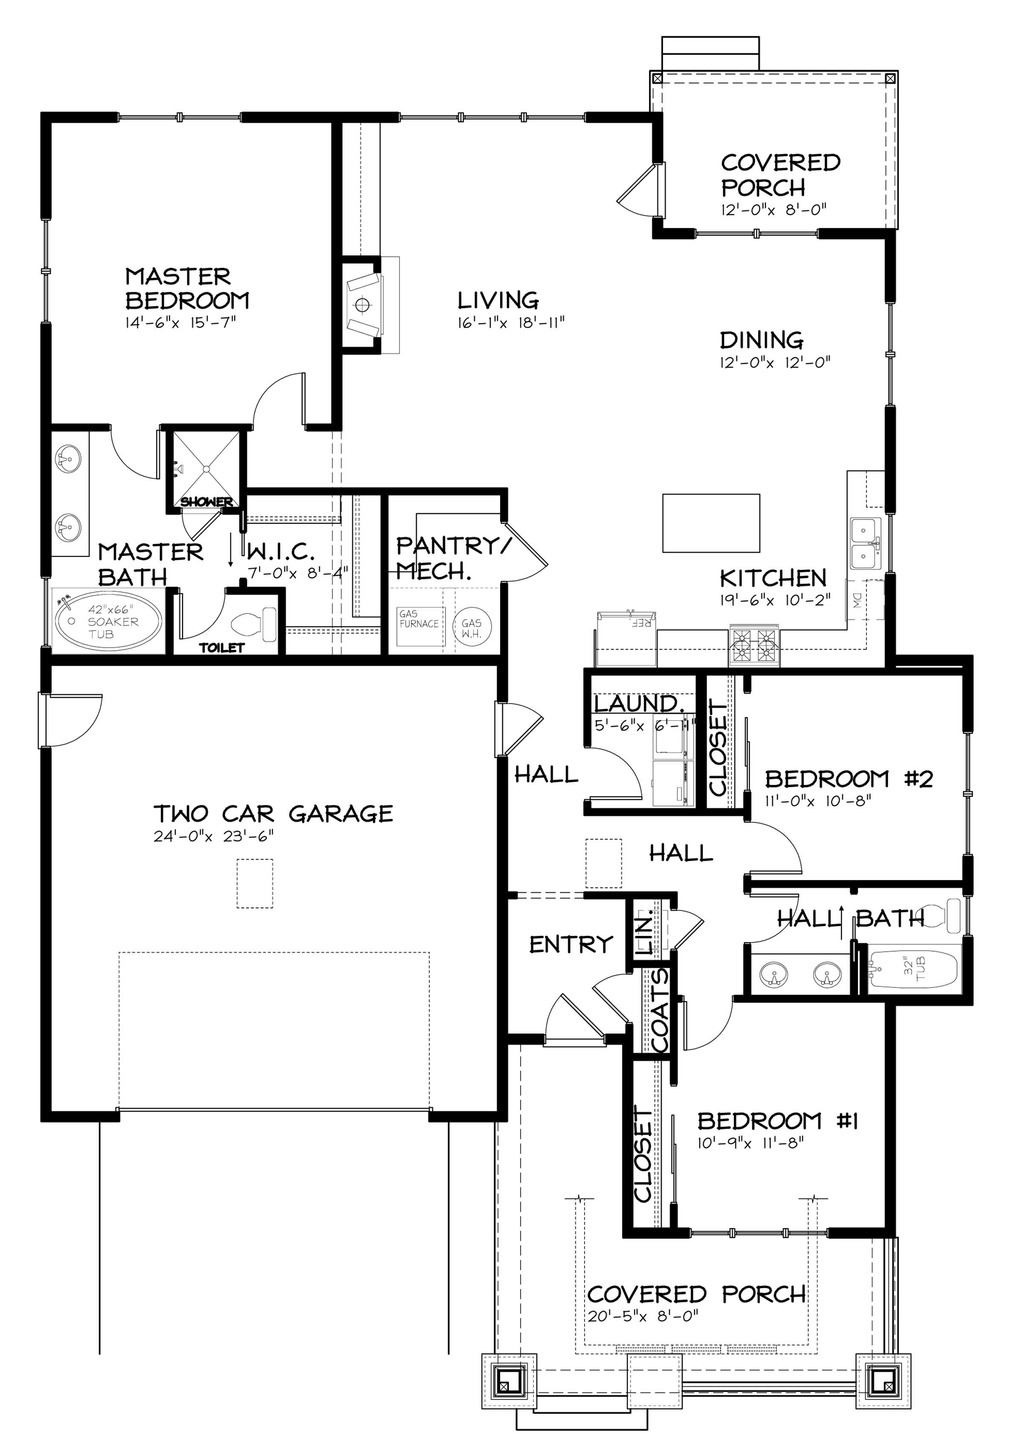door: (745, 804, 808, 888), (245, 370, 308, 452), (99, 406, 165, 479), (35, 684, 106, 751), (672, 991, 747, 1054), (578, 734, 638, 809), (617, 161, 674, 241), (533, 993, 604, 1054), (492, 520, 556, 586), (180, 572, 229, 636), (586, 976, 641, 1034), (495, 701, 549, 759), (740, 897, 803, 943), (667, 909, 702, 952)
large_sink: (908, 886, 977, 943), (238, 602, 291, 659)
small_sink: (45, 431, 107, 561), (747, 947, 863, 996)
tub: (863, 945, 970, 1004)
twin_sink: (833, 513, 899, 579)
